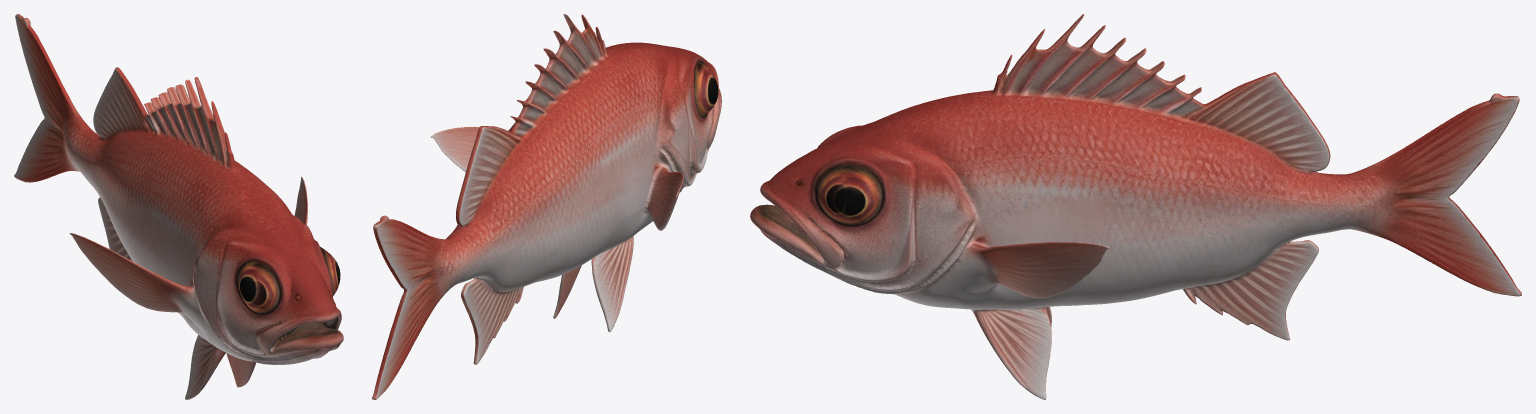
The model's file is akamutsu-518267edf7f2.glb.
3 views of the same model, side by side, from view 1: azimuth 30°, elevation 25°; view 2: azimuth 150°, elevation 25°; view 3: azimuth 270°, elevation 25° (orthographic). The views are drawn at different scales.
Bounding box in the file's own units: 0.799 × 1 × 1.9.
1 material, 1 textured.
